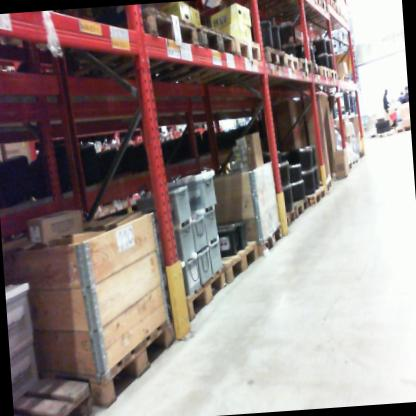pallet: (57, 318, 186, 416), (58, 5, 202, 87), (144, 17, 240, 93), (168, 265, 231, 335), (207, 28, 267, 94), (14, 374, 89, 416), (219, 241, 263, 288), (254, 39, 288, 80), (316, 4, 354, 36), (257, 222, 286, 260), (285, 0, 329, 25), (279, 49, 300, 81), (305, 186, 328, 211), (293, 54, 315, 79), (291, 197, 312, 221), (278, 207, 297, 230), (317, 176, 334, 199), (392, 120, 410, 136), (312, 56, 323, 80), (377, 128, 394, 141), (338, 73, 352, 87), (330, 62, 339, 83), (321, 65, 331, 83), (369, 127, 382, 140), (324, 0, 337, 12), (311, 0, 325, 6)
